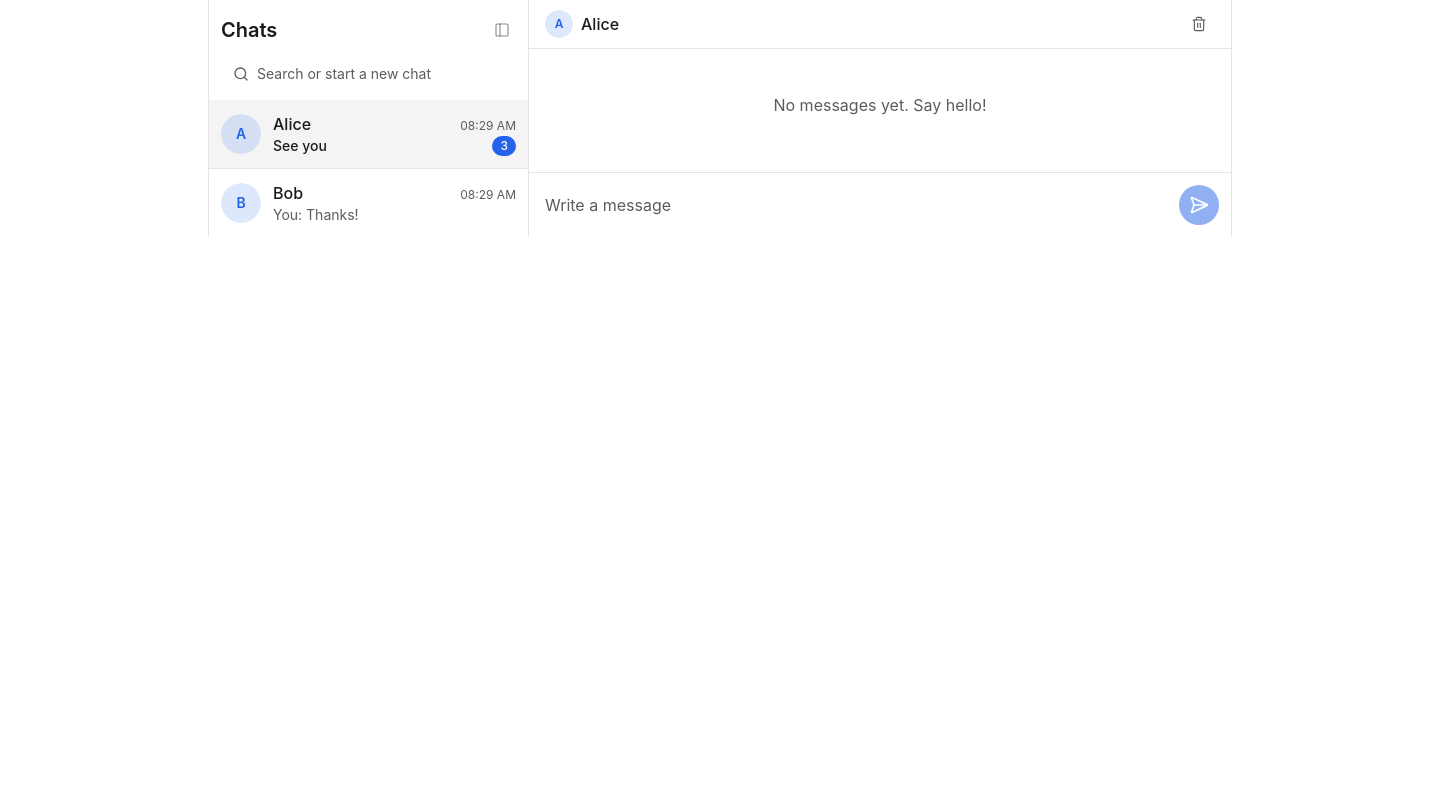
Test: delete chat › keeps the dialog open and explains when deleting fails
Expected: the element named "Chat with Alice" is shown, top-left (529, 0), bottom-right (1231, 237)
What coordinates should you click on to do the following:
click the button named "Delete chat"
I would click on:
 (1199, 24)
Its box is top-left (1183, 8), bottom-right (1215, 40).
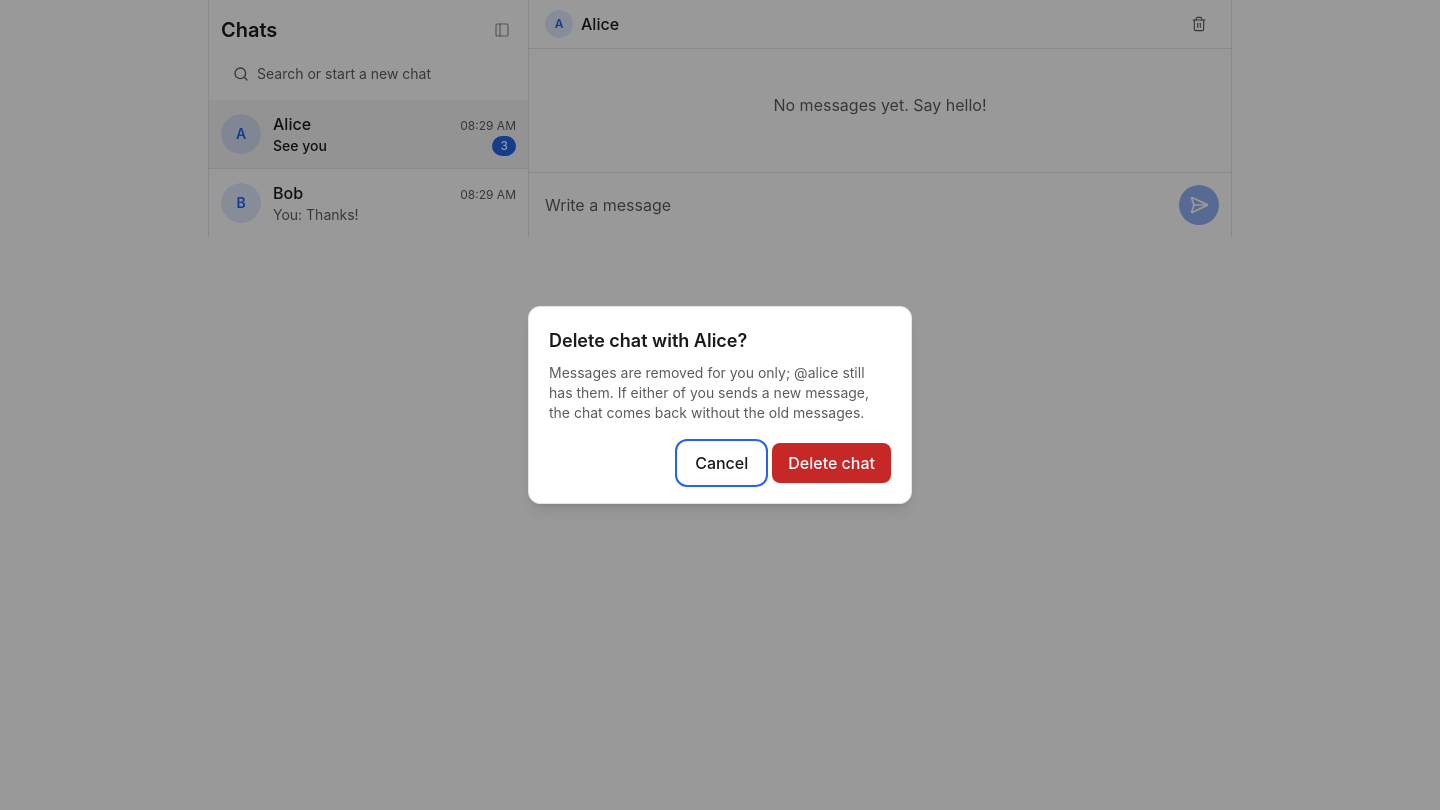
What coordinates should you click on to do the following:
click the button "Delete chat"
I would click on:
 (832, 463)
Its box is top-left (772, 443), bottom-right (891, 483).
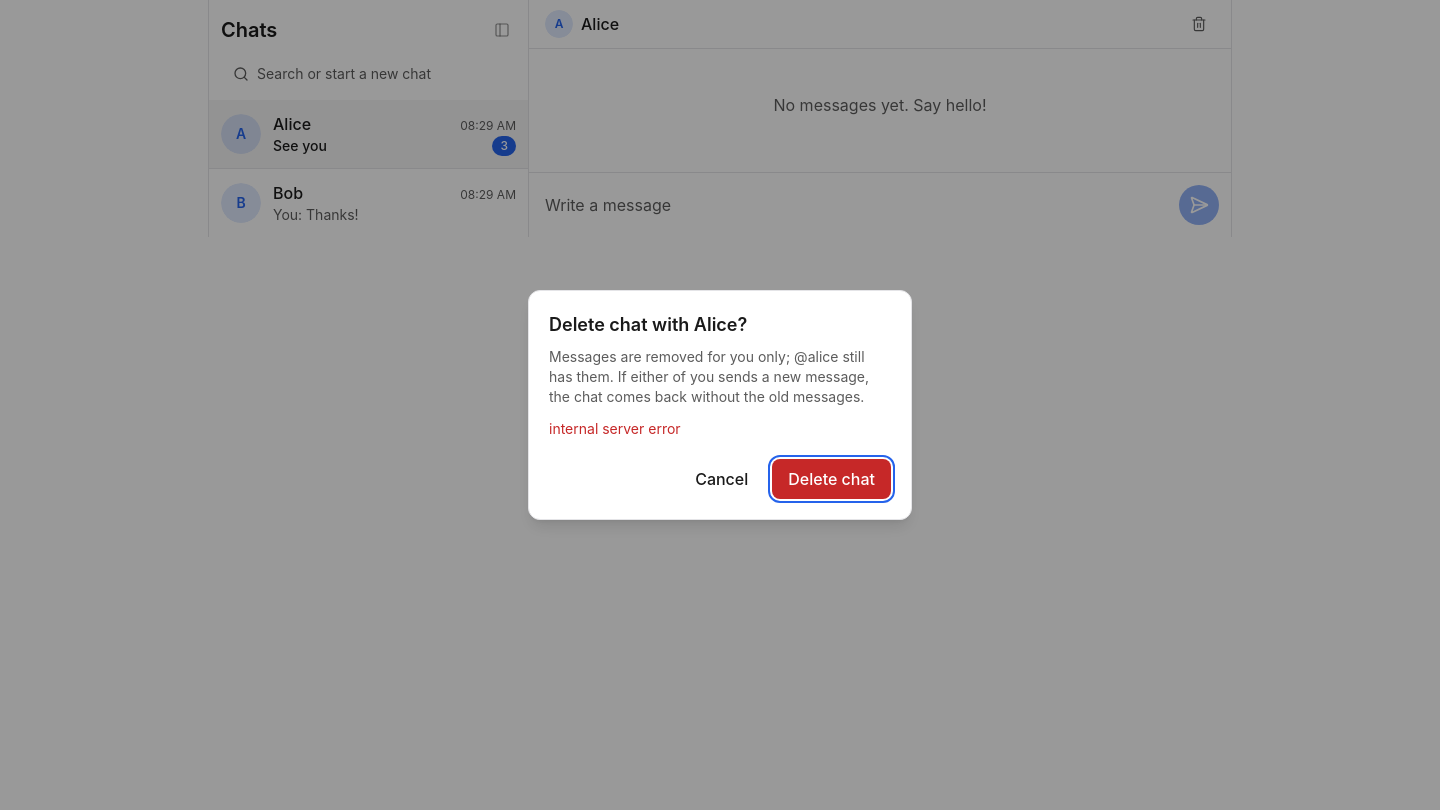
Expected: the element named "Chat with Alice" is shown, top-left (529, 0), bottom-right (1231, 237)
Result: the message reads "internal server error" at top-left (549, 420), bottom-right (681, 437)
